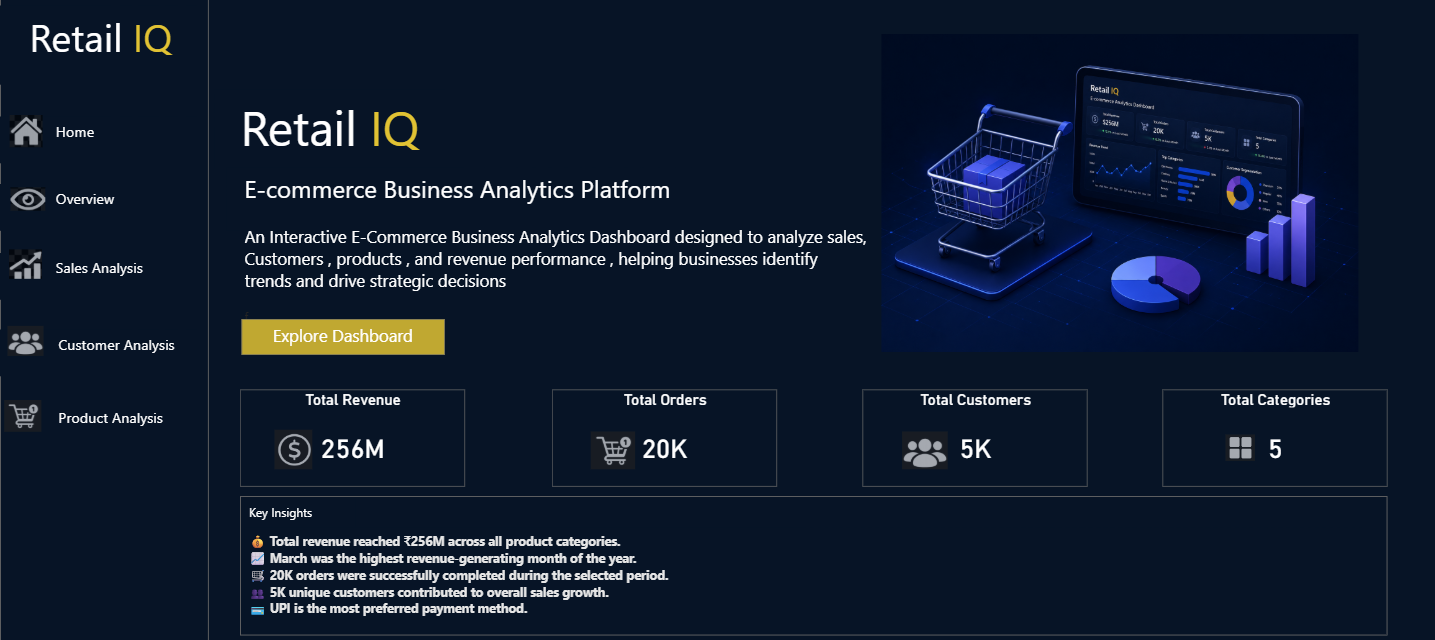

What the dashboard file says about the page in this screenshot:
{"tool":"powerbi","page":{"name":"Home","canvas":[1600,720],"ordinal":0},"visuals":[{"type":"shape","box":[0,0,232,720],"z":0},{"type":"textbox","box":[0,8,224,88],"z":1000},{"type":"textbox","box":[0,132,224,52],"z":2000},{"type":"textbox","box":[0,206,224,52],"z":3000},{"type":"textbox","box":[0,284,224,52],"z":4000},{"type":"textbox","box":[0,368,224,52],"z":5000},{"type":"textbox","box":[238,102,256,88],"z":6000},{"type":"textbox","box":[252,188,526,70],"z":7000},{"type":"textbox","box":[266,246,780,122],"z":8000},{"type":"card","title":"Total Revenue","fields":{"Values":["Sum(Cleaned_Ecommercedataset.order_value)"]},"box":[266.3,435.8,250.2,108.1],"z":9000},{"type":"card","title":"Total Orders","fields":{"Values":["CountNonNull(Cleaned_Ecommercedataset.order_id)"]},"box":[613.3,435.8,250.2,108.1],"z":10000},{"type":"card","title":"Total Customers","fields":{"Values":["Count(Cleaned_Ecommercedataset.customer_id)"]},"box":[958.7,435.8,250.2,108.1],"z":11000},{"type":"card","title":"Total Categories","fields":{"Values":["Count(Cleaned_Ecommercedataset.category)"]},"box":[1291.2,435.8,250.2,108.1],"z":12000},{"type":"image","box":[305,478.3,41.7,46.7],"z":13000},{"type":"image","box":[655,481.7,51.7,41.7],"z":14000},{"type":"image","box":[998.3,481.7,58.3,41.7],"z":15000},{"type":"image","box":[1347.7,485.8,59.7,29.1],"z":16000},{"type":"image","box":[3.3,446.7,43.3,35],"z":17000},{"type":"image","box":[8.3,358.3,40,45],"z":18000},{"type":"textbox","box":[268,356,226,40],"z":19000},{"type":"shape","box":[268.8,357.7,225.2,37.9],"z":20000},{"type":"image","box":[10,130,38,36],"z":21000},{"type":"image","box":[10,273.3,36.7,45],"z":22000},{"type":"image","box":[973.3,40,541.7,353.3],"z":23000},{"type":"textbox","box":[46.7,450,176.7,51.7],"z":24000},{"type":"image","box":[11.7,205,38.3,36.7],"z":25000},{"type":"shape","box":[5,116.7,195,61.7],"z":26000},{"type":"shape","box":[5,193.3,195,61.7],"z":27000},{"type":"shape","box":[1.7,271.7,195,61.7],"z":28000},{"type":"shape","box":[3.3,358.3,196.7,61.7],"z":29000},{"type":"shape","box":[1.7,433.3,196.7,61.7],"z":30000},{"type":"shape","box":[266.7,553.3,1275,155],"z":31000},{"type":"textbox","box":[271.7,556.7,123.3,31.7],"z":32000},{"type":"textbox","box":[272,588,1242,108],"z":33000}]}

Visuals, with their boxes on the page's 1600x720 design canvas (x1, y1, x2, y2). These are canvas units, not pixel positions in the 1435x640 screenshot, which may show the page scaled, cropped or inside an application window:
shape: 0,0,232,720
textbox: 0,8,224,96
textbox: 0,132,224,184
textbox: 0,206,224,258
textbox: 0,284,224,336
textbox: 0,368,224,420
textbox: 238,102,494,190
textbox: 252,188,778,258
textbox: 266,246,1046,368
"Total Revenue" card: 266,436,516,544
"Total Orders" card: 613,436,864,544
"Total Customers" card: 959,436,1209,544
"Total Categories" card: 1291,436,1541,544
image: 305,478,347,525
image: 655,482,707,523
image: 998,482,1057,523
image: 1348,486,1407,515
image: 3,447,47,482
image: 8,358,48,403
textbox: 268,356,494,396
shape: 269,358,494,396
image: 10,130,48,166
image: 10,273,47,318
image: 973,40,1515,393
textbox: 47,450,223,502
image: 12,205,50,242
shape: 5,117,200,178
shape: 5,193,200,255
shape: 2,272,197,333
shape: 3,358,200,420
shape: 2,433,198,495
shape: 267,553,1542,708
textbox: 272,557,395,588
textbox: 272,588,1514,696
